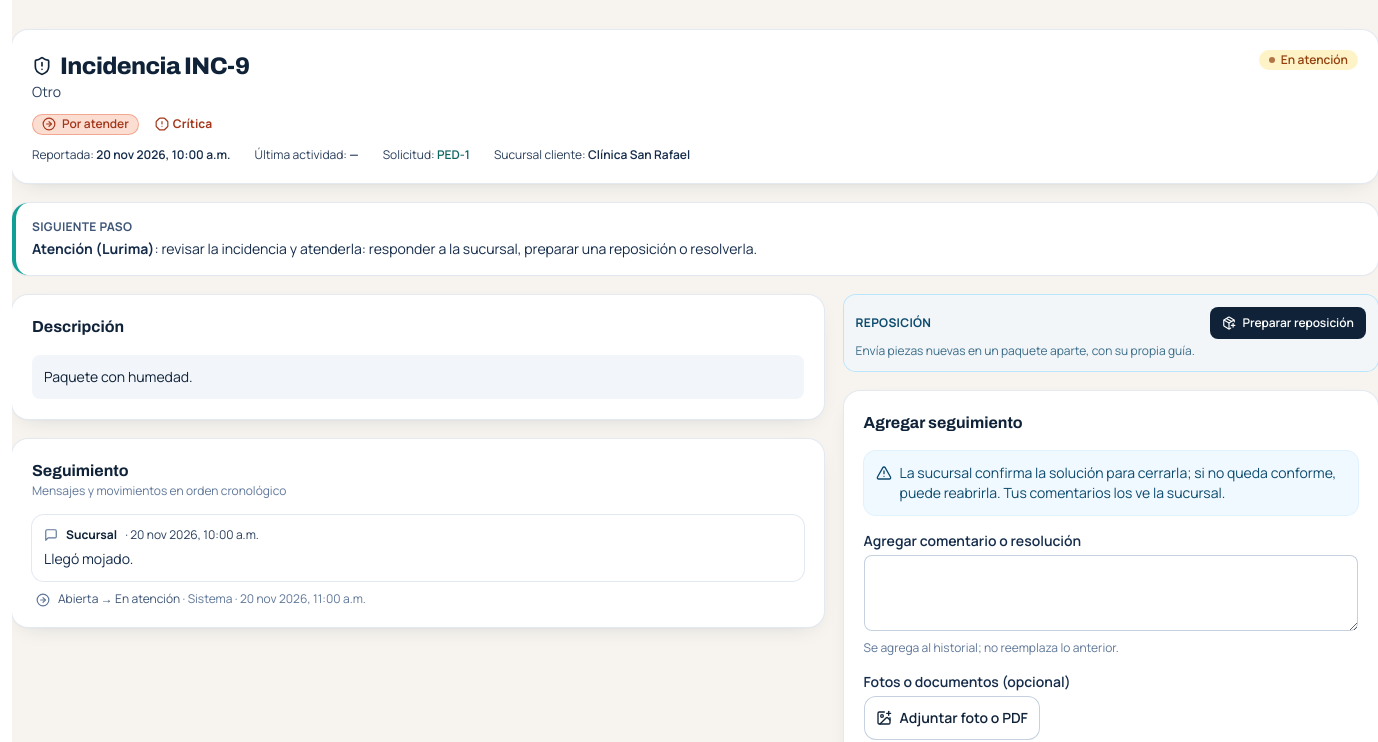
it: detalle de incidencia en el panel › la acción del modal se conserva: guardar comentario y cambio de estado
Type "Enviamos reposición." into the text box labelled "Agregar comentario o resolución" at (1111, 592), box [864,554,1358,630]
(page scrolled)
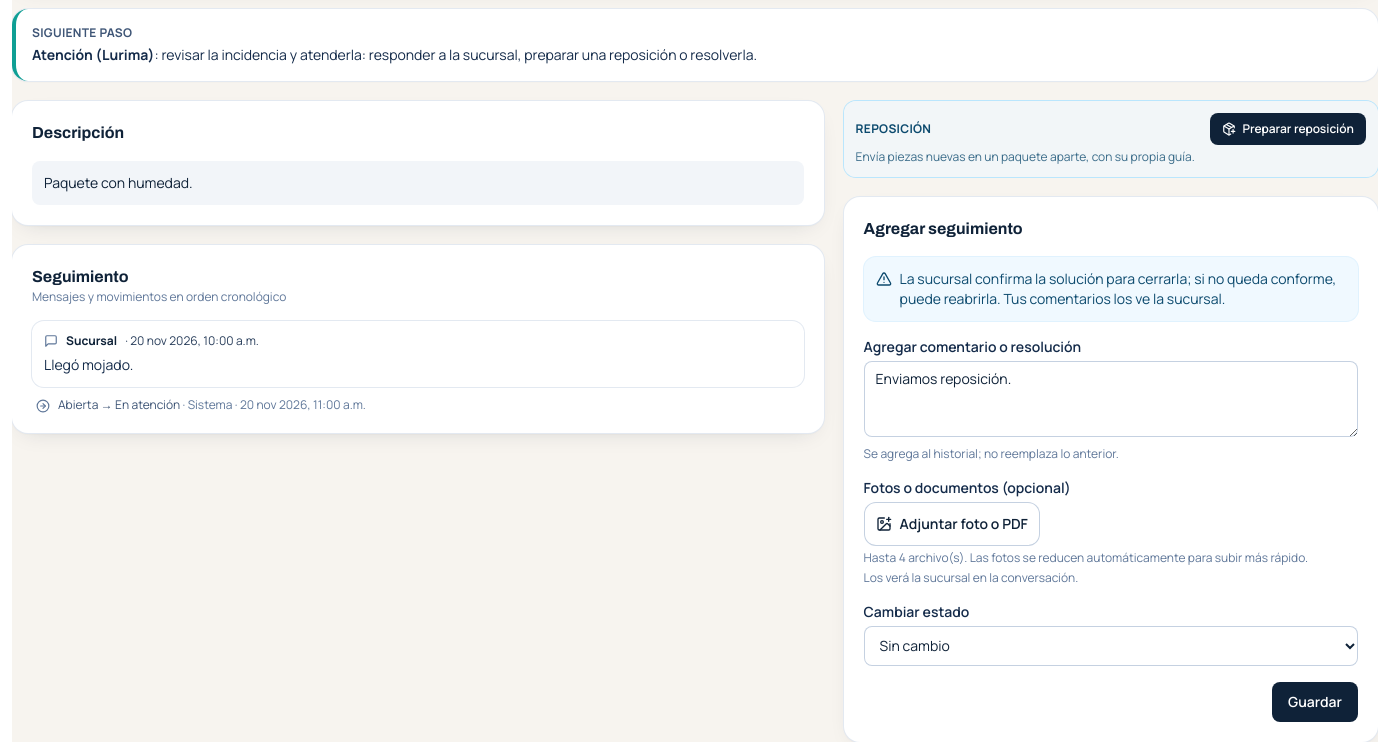
expect the button "Preparar reposición" is shown: met, box [1210,112,1366,144]
Select "Resuelta" in the dropdown labelled "Cambiar estado" at (1111, 646), box [864,626,1358,666]
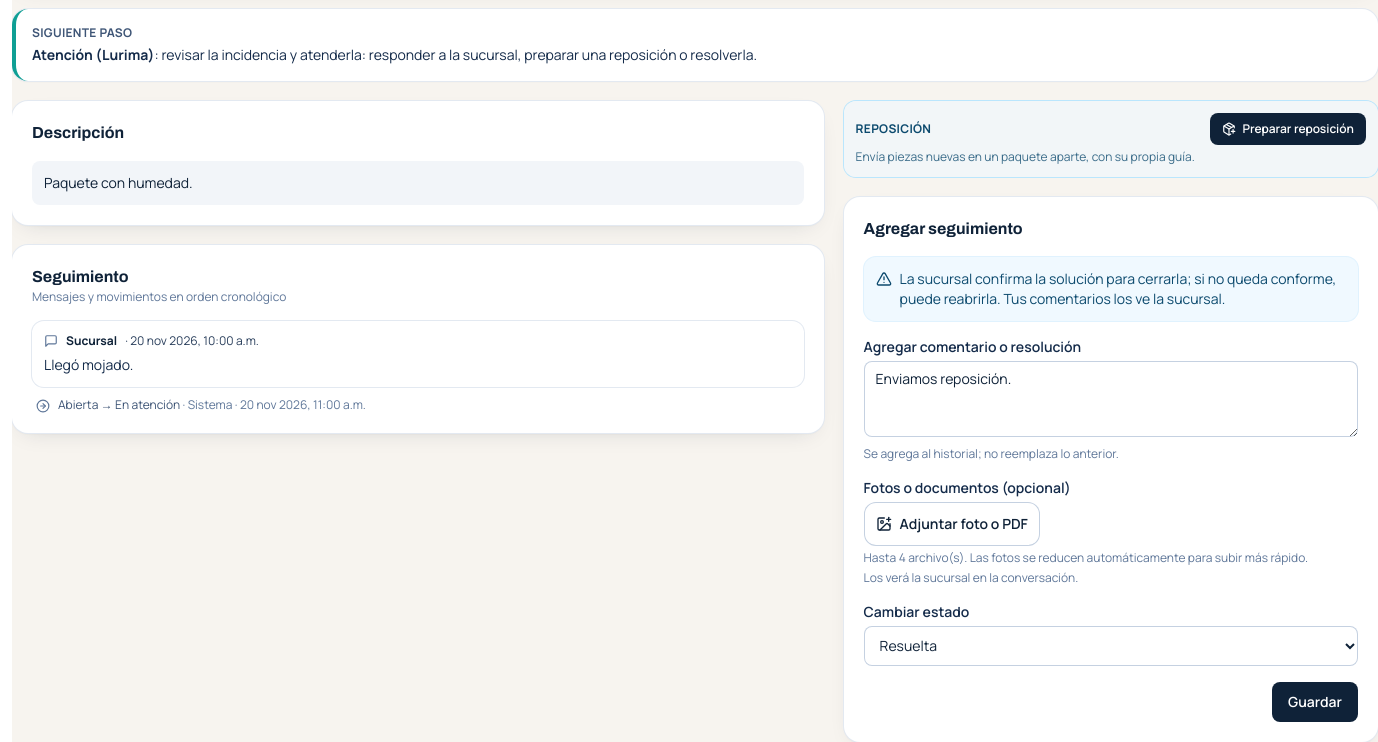
Click the button "Guardar" at (1315, 702), box [1272,682,1358,722]
(page scrolled)
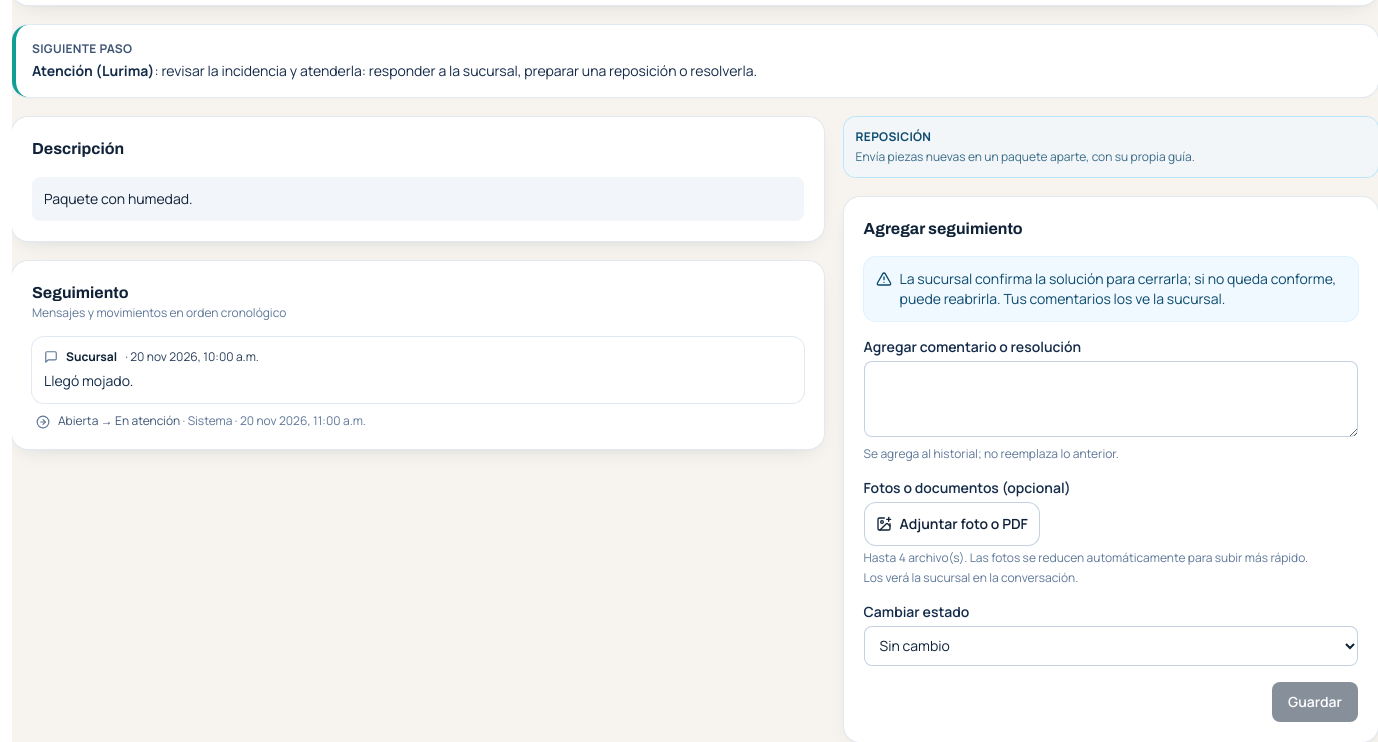
expect the button "Preparar reposición" is gone: met
